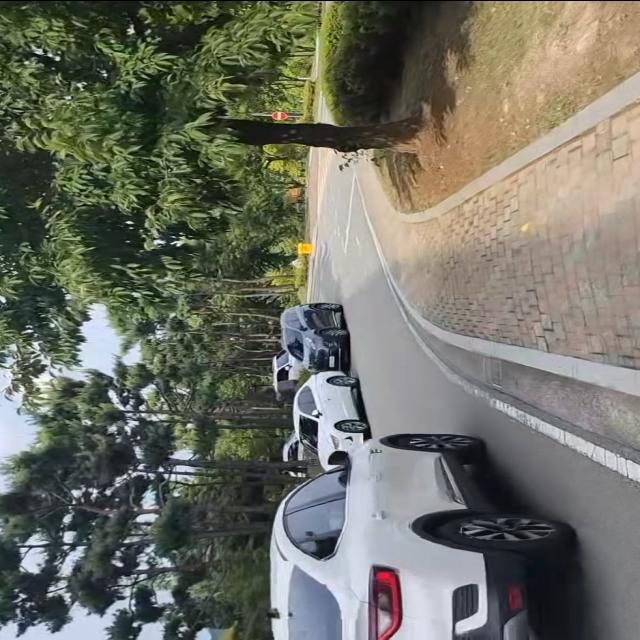obstacle: (263, 421, 589, 640), (279, 359, 379, 476), (276, 298, 356, 376)
road: (313, 152, 640, 640)
sidewalk: (353, 74, 640, 395)
